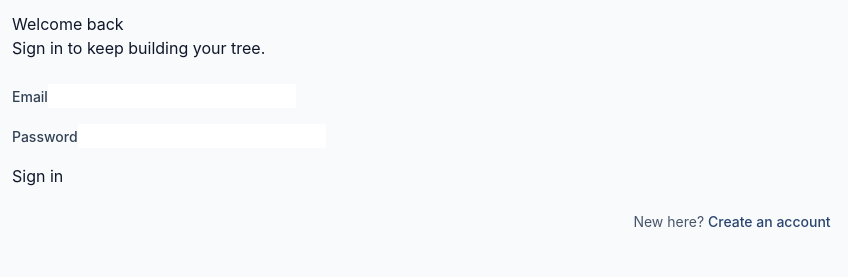
Test case: LoginPage › shows a validation error when email is missing
The width and height of the screenshot is (848, 277).
Click the button "Sign in". click: (38, 176)
box: left=12, top=164, right=63, bottom=188
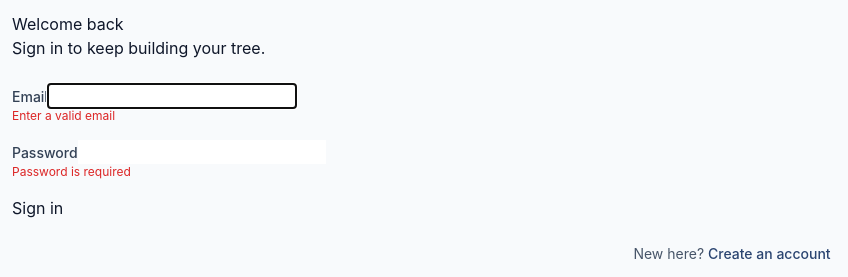
Result: the text "Enter a valid email" is shown at left=12, top=108, right=115, bottom=123
